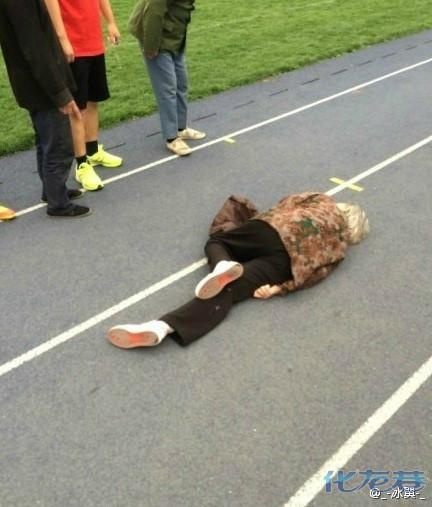falling: (105, 168, 370, 357)
